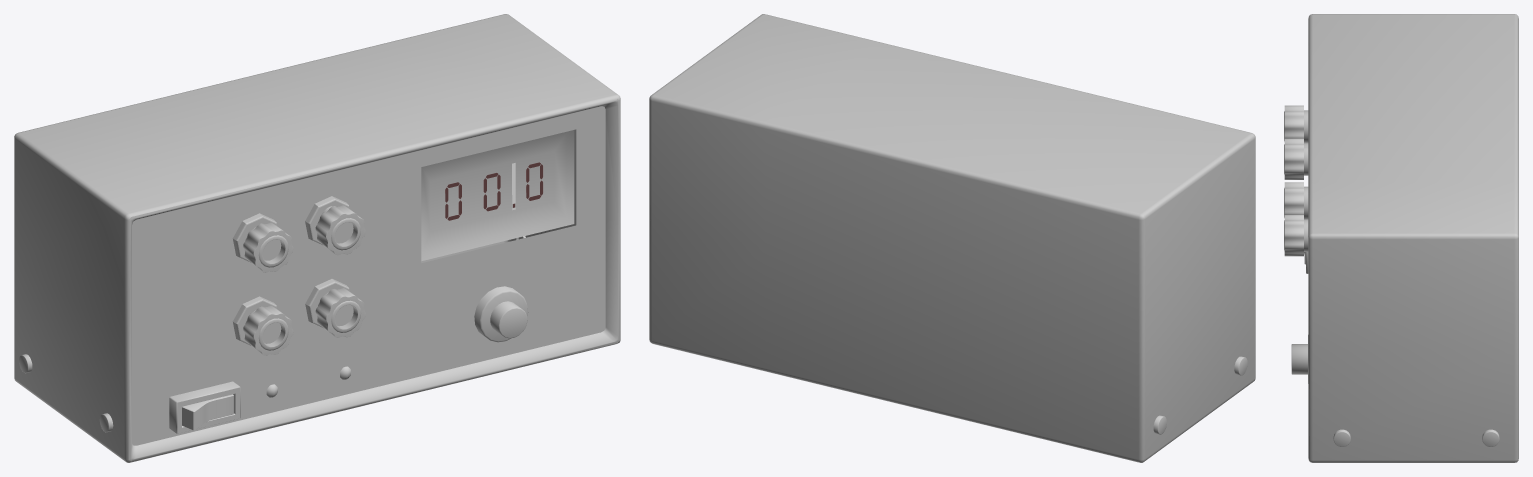
The model's file is xueshengdianyuan.FBX.
3 views of the same model, side by side, from view 1: azimuth 30°, elevation 25°; view 2: azimuth 150°, elevation 25°; view 3: azimuth 270°, elevation 25° (orthographic). The views are drawn at different scales.
Parts seen in each view (by area): view 1: waike, kaiguan, xuanniu, heisejiexianzhu(jiaoliu zuo), heisejiexianzhu(zhiliu), hongsejiexianzhu, heisejiexianzhu(jiaoliu you), Object003; view 2: waike; view 3: waike, heisejiexianzhu(jiaoliu you), hongsejiexianzhu, heisejiexianzhu(zhiliu), heisejiexianzhu(jiaoliu zuo), xuanniu.
Part boxes in pixels (left/top/right/bottom): waike: left=14, top=14, right=620, bottom=462; kaiguan: left=169, top=381, right=240, bottom=433; xuanniu: left=474, top=286, right=528, bottom=342; heisejiexianzhu(jiaoliu zuo): left=243, top=305, right=293, bottom=355; heisejiexianzhu(zhiliu): left=243, top=222, right=293, bottom=272; hongsejiexianzhu: left=315, top=205, right=365, bottom=255; heisejiexianzhu(jiaoliu you): left=315, top=288, right=365, bottom=337; Object003: left=445, top=162, right=543, bottom=220; waike: left=649, top=14, right=1255, bottom=462; waike: left=1304, top=14, right=1518, bottom=462; heisejiexianzhu(jiaoliu you): left=1284, top=215, right=1308, bottom=256; hongsejiexianzhu: left=1284, top=138, right=1308, bottom=179; heisejiexianzhu(zhiliu): left=1284, top=105, right=1308, bottom=142; heisejiexianzhu(jiaoliu zuo): left=1284, top=182, right=1308, bottom=219; xuanniu: left=1291, top=335, right=1308, bottom=383.
Size of the model in its own units: 25.48 by 12 by 11.15.
